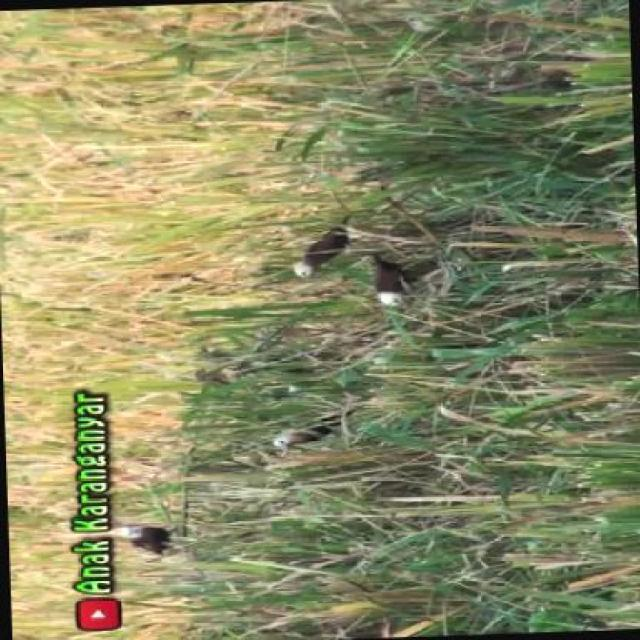Bird: (283, 212, 369, 283), (99, 509, 187, 567), (361, 245, 420, 310), (266, 411, 352, 454)
